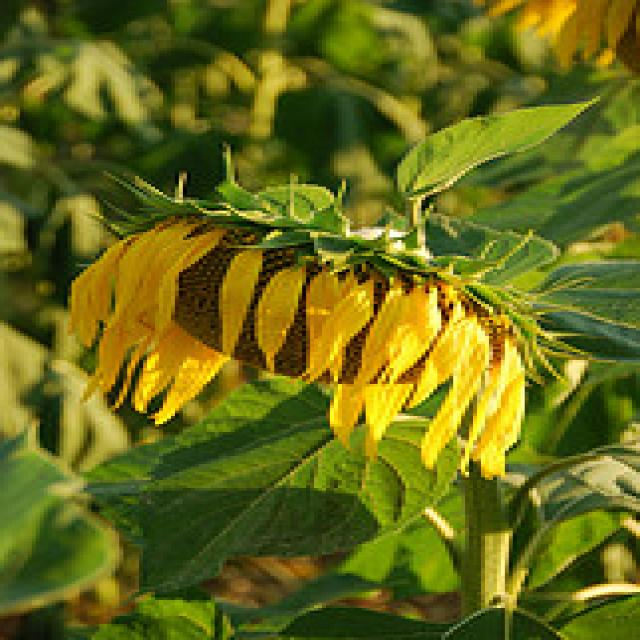sunflower: (74, 180, 566, 471)
